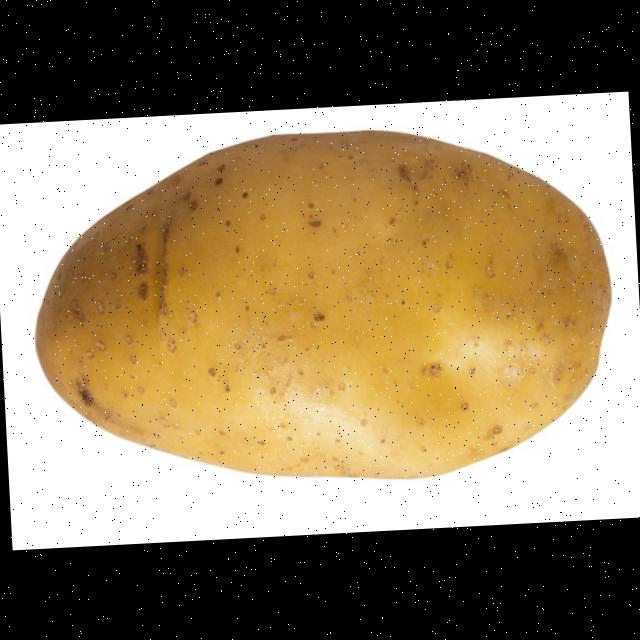Diseased-fungal potato: (15, 111, 634, 502)
